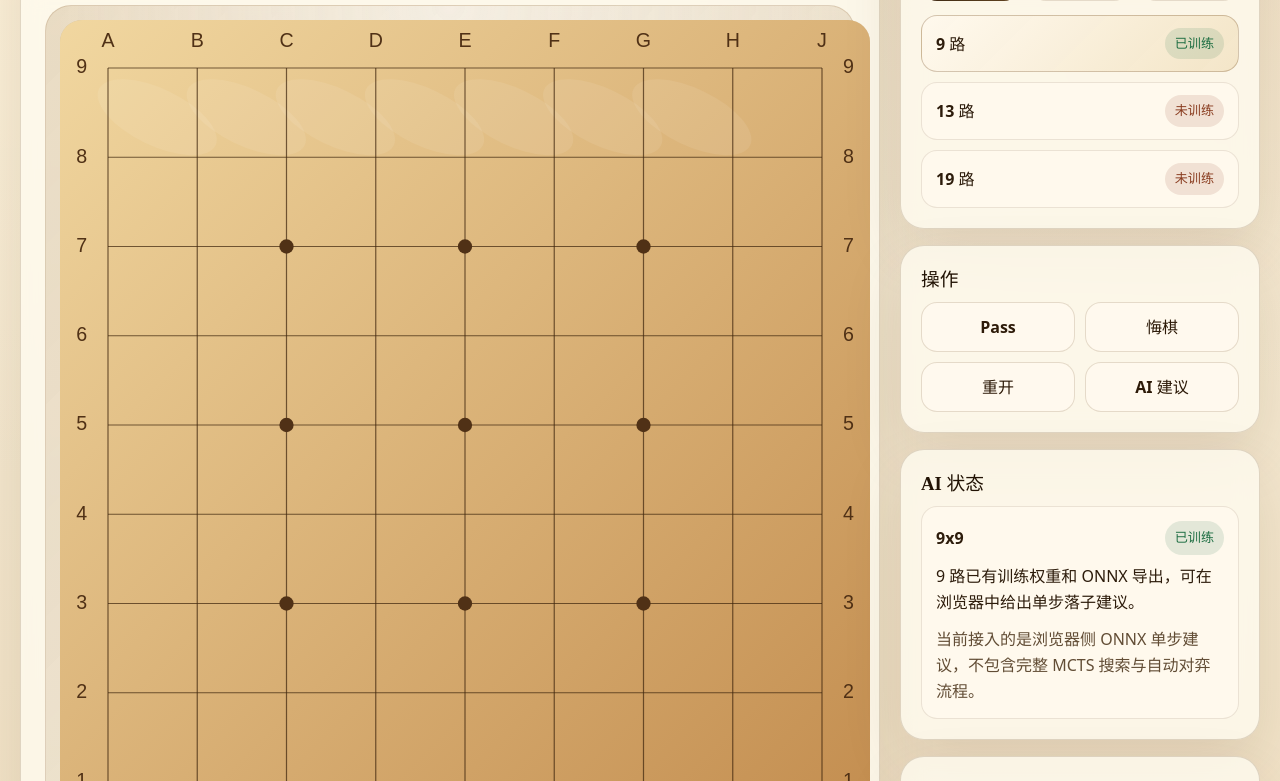
AI request lifetime › discards a delayed model load after Pass
The image size is (1280, 781).
(page scrolled)
What coordinates should you click on to do the following:
click the button "AI 建议"
I would click on:
 (1162, 387)
Its box is top-left (1085, 362), bottom-right (1239, 412).
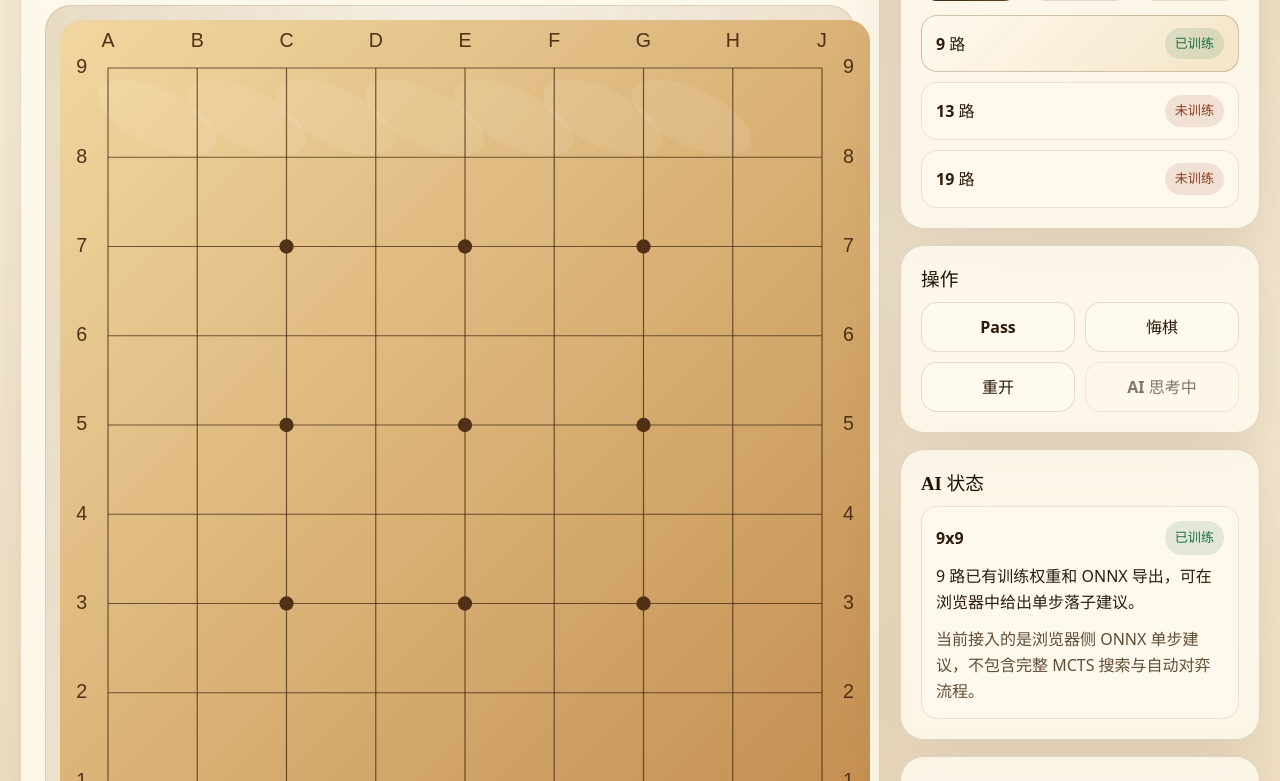
What coordinates should you click on to do the following:
click the button "Pass"
I would click on:
 (998, 327)
Its box is top-left (921, 302), bottom-right (1075, 352).
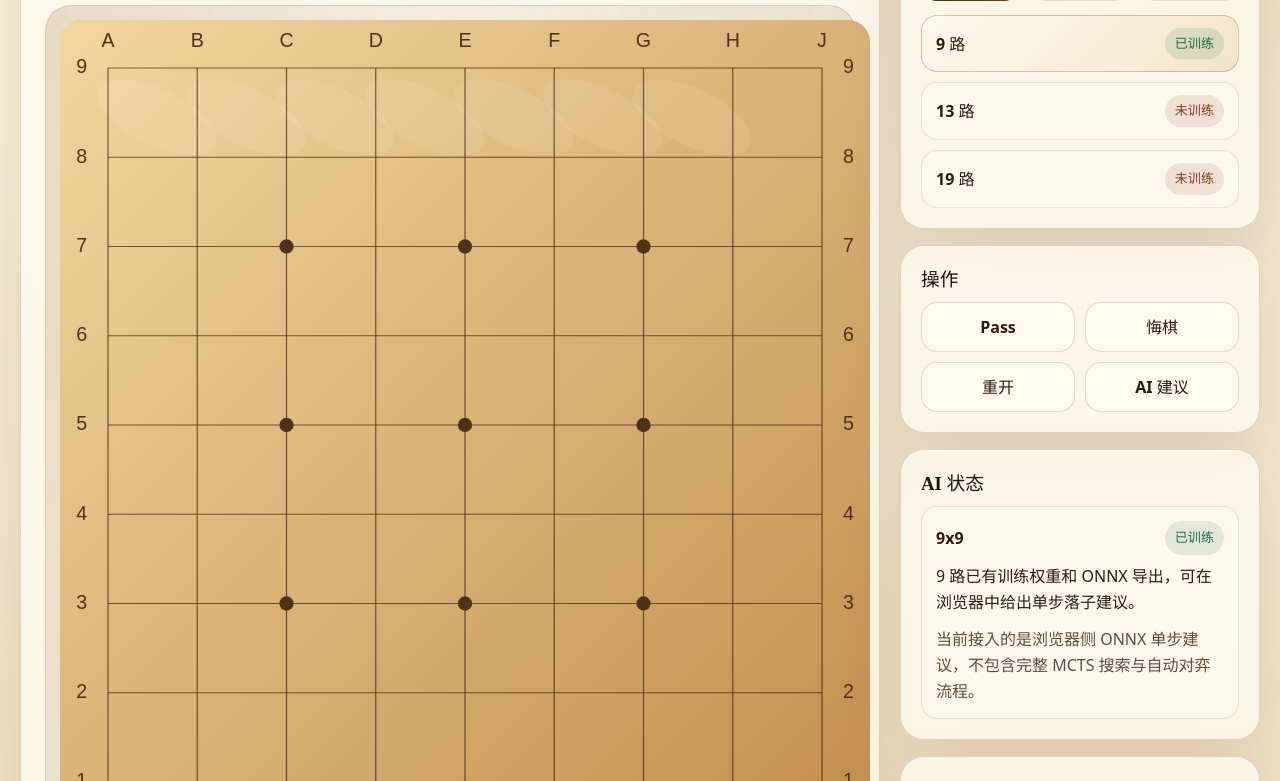
Now the button "AI 建议" is enabled, box top-left (1085, 362), bottom-right (1239, 412)
